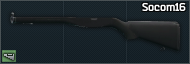M1A SOCOM 16 stock: (0, 0, 190, 64)
